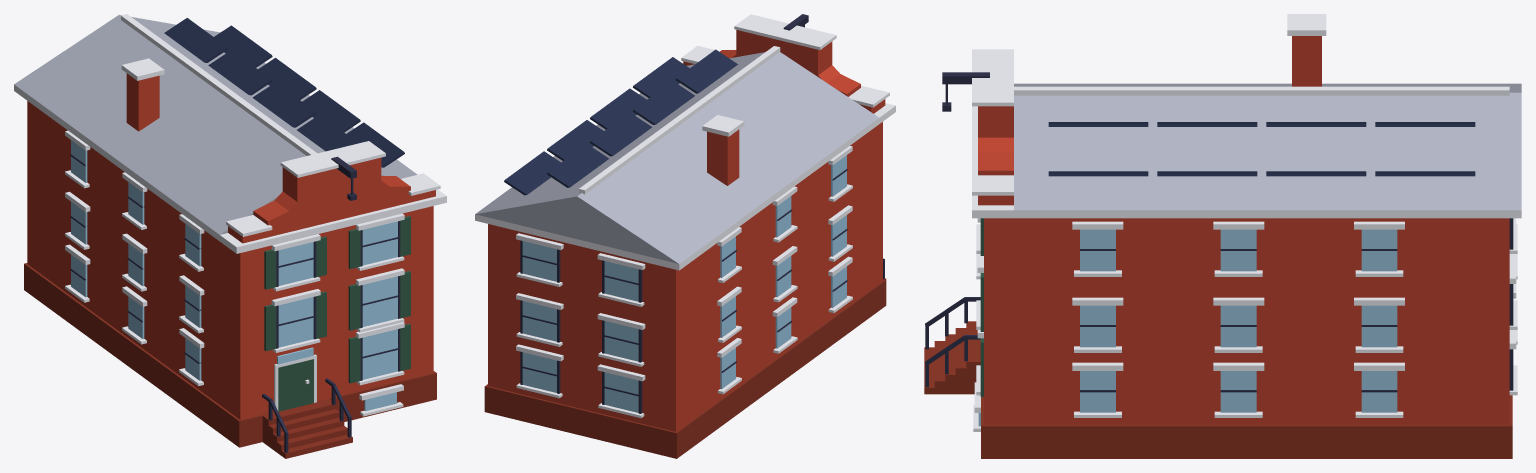
The model's file is house-1x2-3f-dutch-a-solar.glb.
The picture shows the model from 3 angles, left to right: view 1: azimuth 30°, elevation 25°; view 2: azimuth 150°, elevation 25°; view 3: azimuth 270°, elevation 25°; orthographic projection. The views are drawn at different scales.
Parts seen in each view (by area): view 1: house-1x2-3f-dutch-a-solar; view 2: house-1x2-3f-dutch-a-solar; view 3: house-1x2-3f-dutch-a-solar.
Boxes of the visible parts, <box> form: house-1x2-3f-dutch-a-solar: <box>14,14,446,458</box>; house-1x2-3f-dutch-a-solar: <box>475,14,895,458</box>; house-1x2-3f-dutch-a-solar: <box>924,14,1521,458</box>.
Size of the model in its own units: 1 by 1.25 by 2.
Materials: 1 (1 with a texture image).
